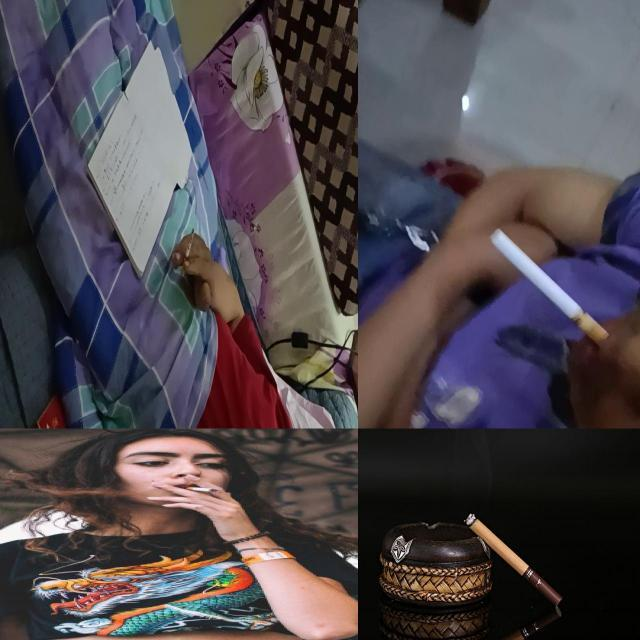smoke: (492, 228, 610, 346), (460, 510, 562, 608), (180, 228, 194, 278), (184, 487, 218, 492)
